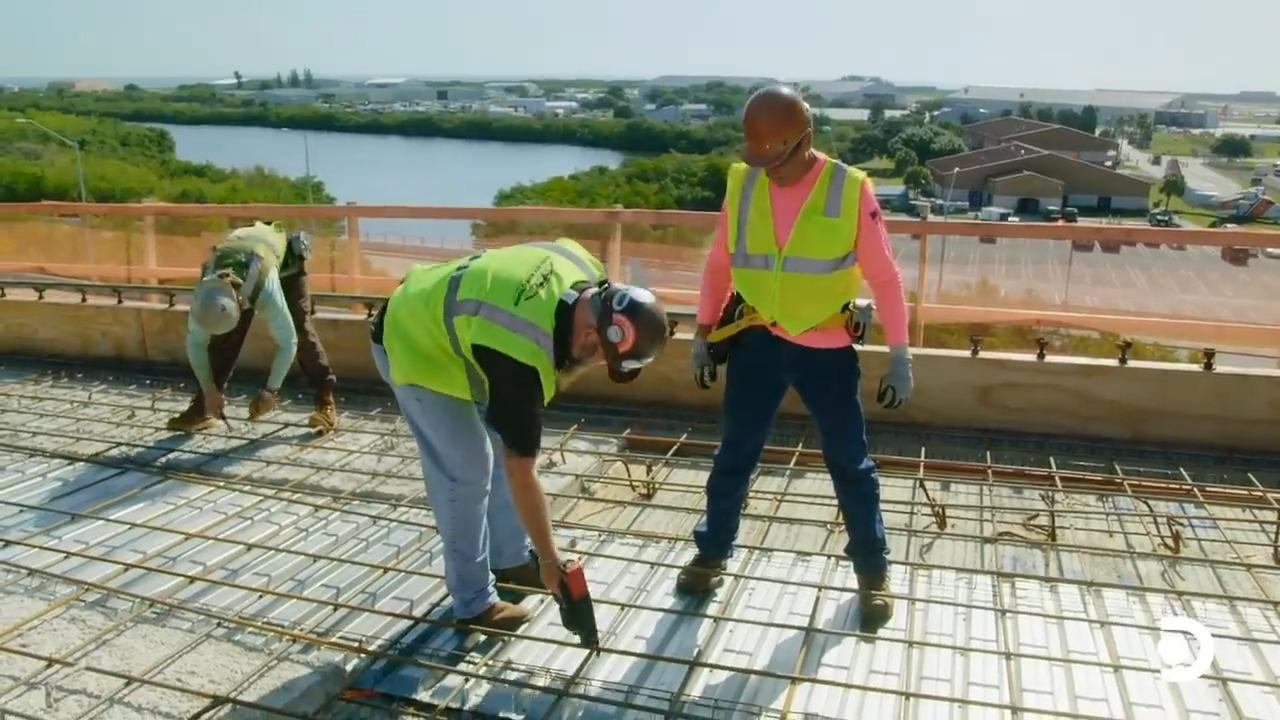Gloves: (877, 361, 932, 412), (685, 341, 715, 388), (244, 389, 276, 417)
Helmet: (596, 282, 669, 384), (740, 84, 812, 169), (190, 277, 241, 335)
Person: (675, 83, 914, 630), (366, 244, 673, 648), (165, 219, 337, 436)
Safety Boot: (458, 597, 530, 634), (855, 565, 896, 626), (674, 551, 727, 590), (493, 563, 555, 594), (169, 405, 207, 429), (308, 403, 336, 435)
Safety Vest: (724, 169, 862, 325), (395, 272, 562, 375), (221, 233, 283, 280)
bare-arms: (536, 537, 572, 590), (204, 391, 225, 418)
